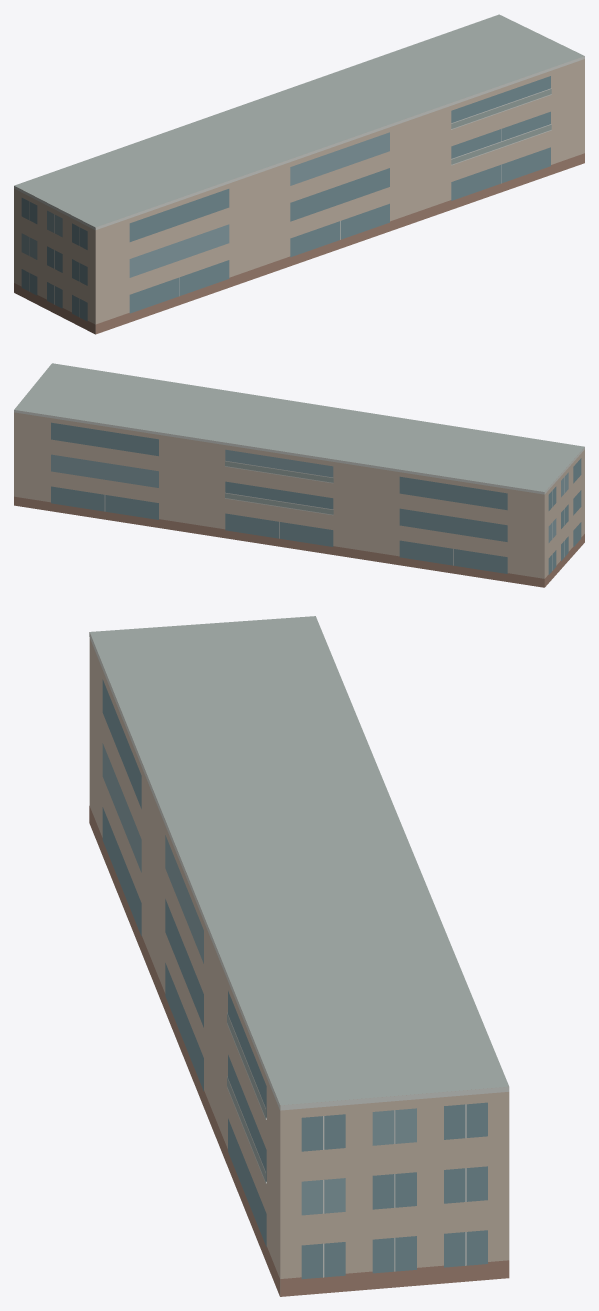
File: survey-upis-32753547.glb
The picture shows the model from 3 angles, top to bottom: view 1: azimuth 30°, elevation 25°; view 2: azimuth 150°, elevation 25°; view 3: azimuth 270°, elevation 25°; orthographic projection. The views are drawn at different scales.
Parts seen in each view (by area): view 1: survey-upis-32753547.tmp; view 2: survey-upis-32753547.tmp; view 3: survey-upis-32753547.tmp.
Boxes of the visible parts, box(x1,y1,x2,y2) form: survey-upis-32753547.tmp: box(14, 14, 584, 334); survey-upis-32753547.tmp: box(14, 363, 584, 587); survey-upis-32753547.tmp: box(89, 616, 509, 1296).
Size of the model in its own units: 50.18 by 9.15 by 18.2.
